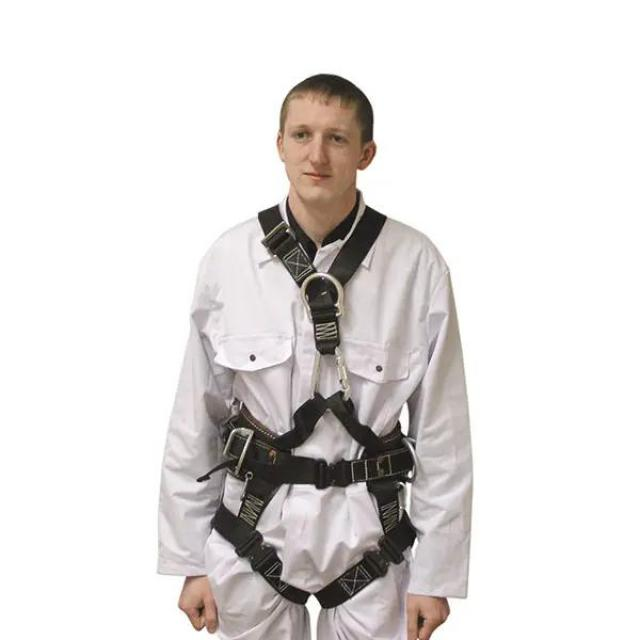Belt: (195, 196, 430, 610)
